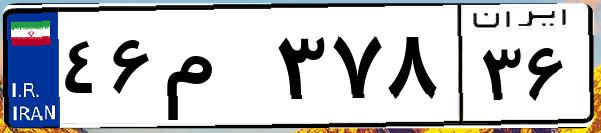3: (270, 28, 330, 110), (475, 38, 525, 113)
4: (57, 26, 110, 100)
6: (525, 38, 570, 115), (110, 28, 158, 98)
7: (330, 28, 385, 110)
8: (385, 28, 445, 110)
م: (158, 20, 270, 120)
